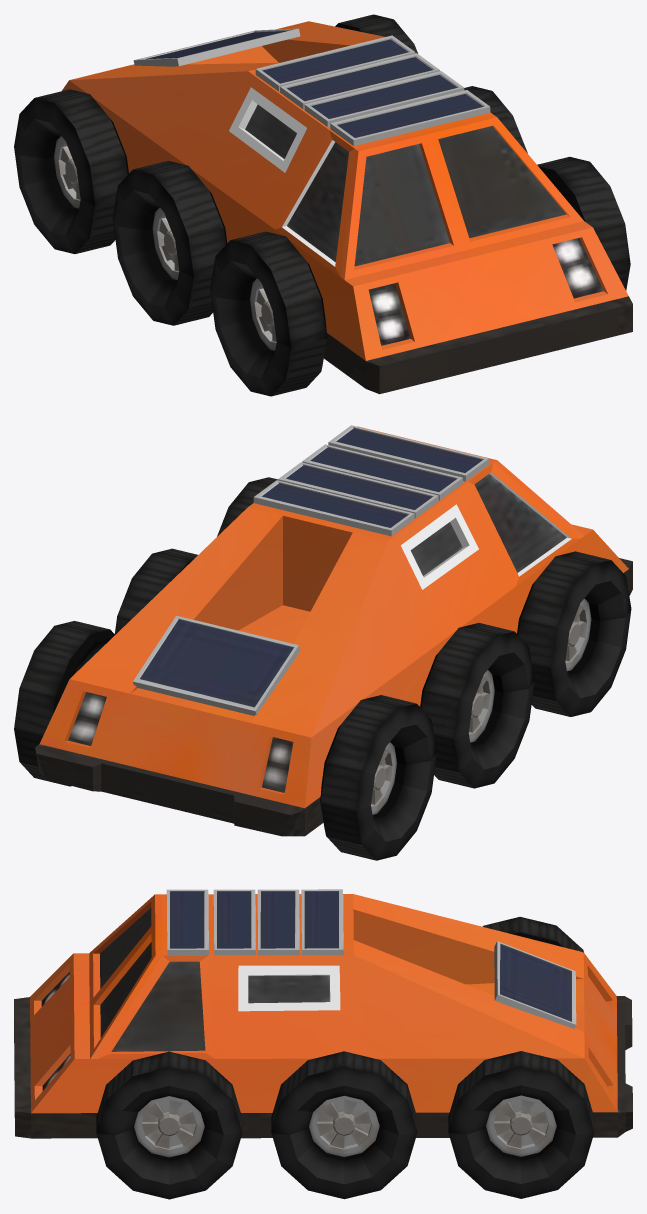
Rendered from Truck03.fbx.
The picture shows the model from 3 angles, top to bottom: view 1: azimuth 30°, elevation 25°; view 2: azimuth 150°, elevation 25°; view 3: azimuth 270°, elevation 25°; orthographic projection. The views are drawn at different scales.
Visible parts, largest first — view 1: Truck.002; view 2: Truck.002; view 3: Truck.002.
Boxes of the visible parts, bbox=[...] form: Truck.002: bbox=[14, 14, 632, 396]; Truck.002: bbox=[14, 425, 632, 860]; Truck.002: bbox=[14, 889, 632, 1199].
Size of the model in its own units: 365 by 226 by 619.
